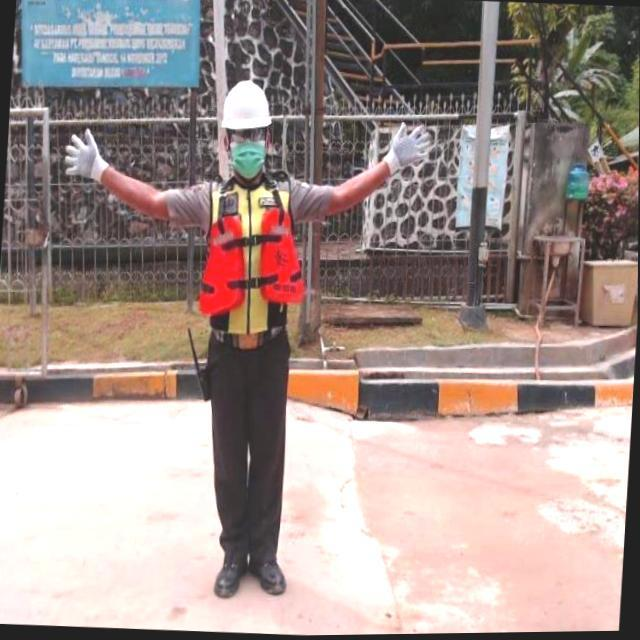goggles_on: (218, 126, 275, 147)
